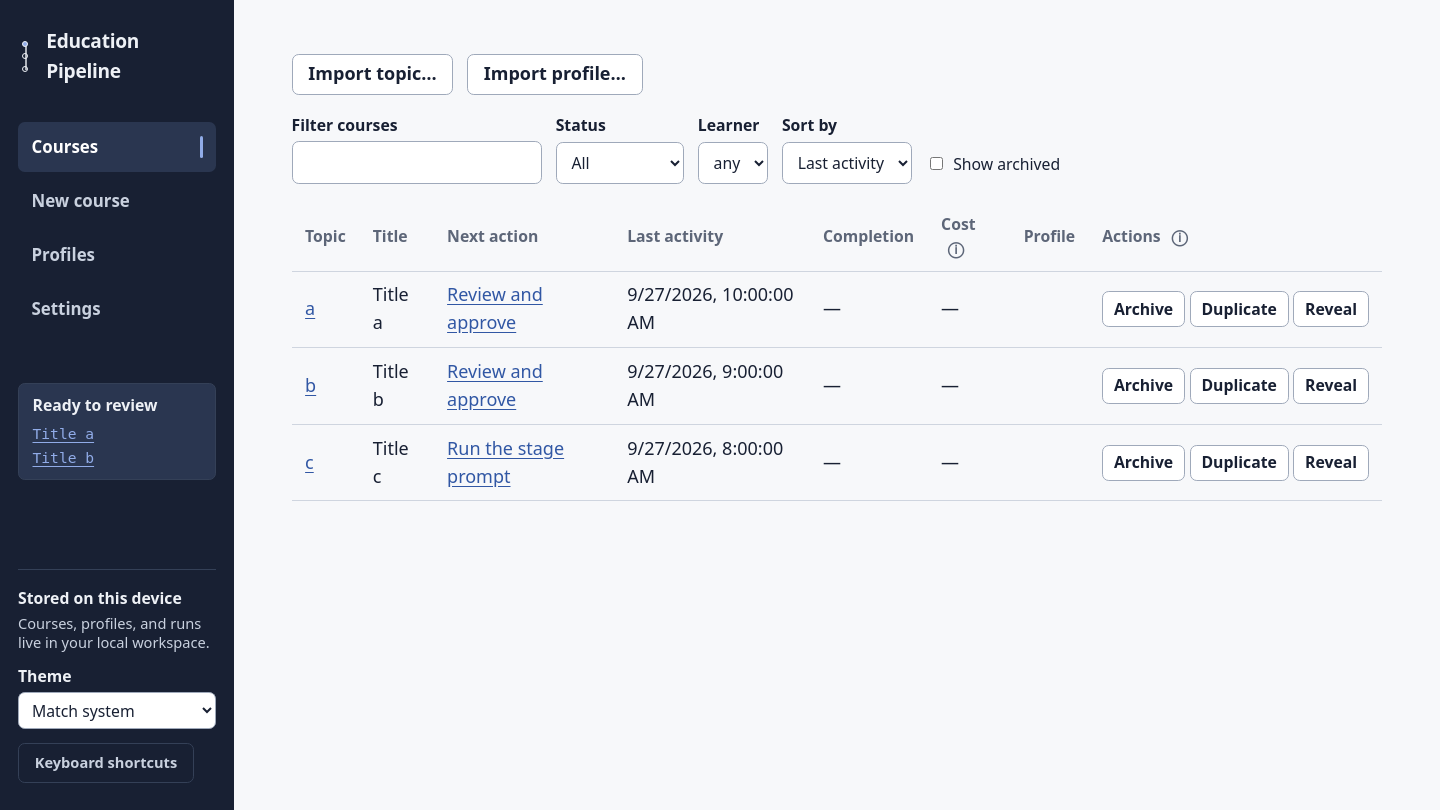
the shortcuts overlay › the rail's Keyboard shortcuts button opens the overlay even when keys are off
Type keys "?"
Type keys "/"
Click the button "Keyboard shortcuts". click: (106, 763)
box: [18,742,194,783]
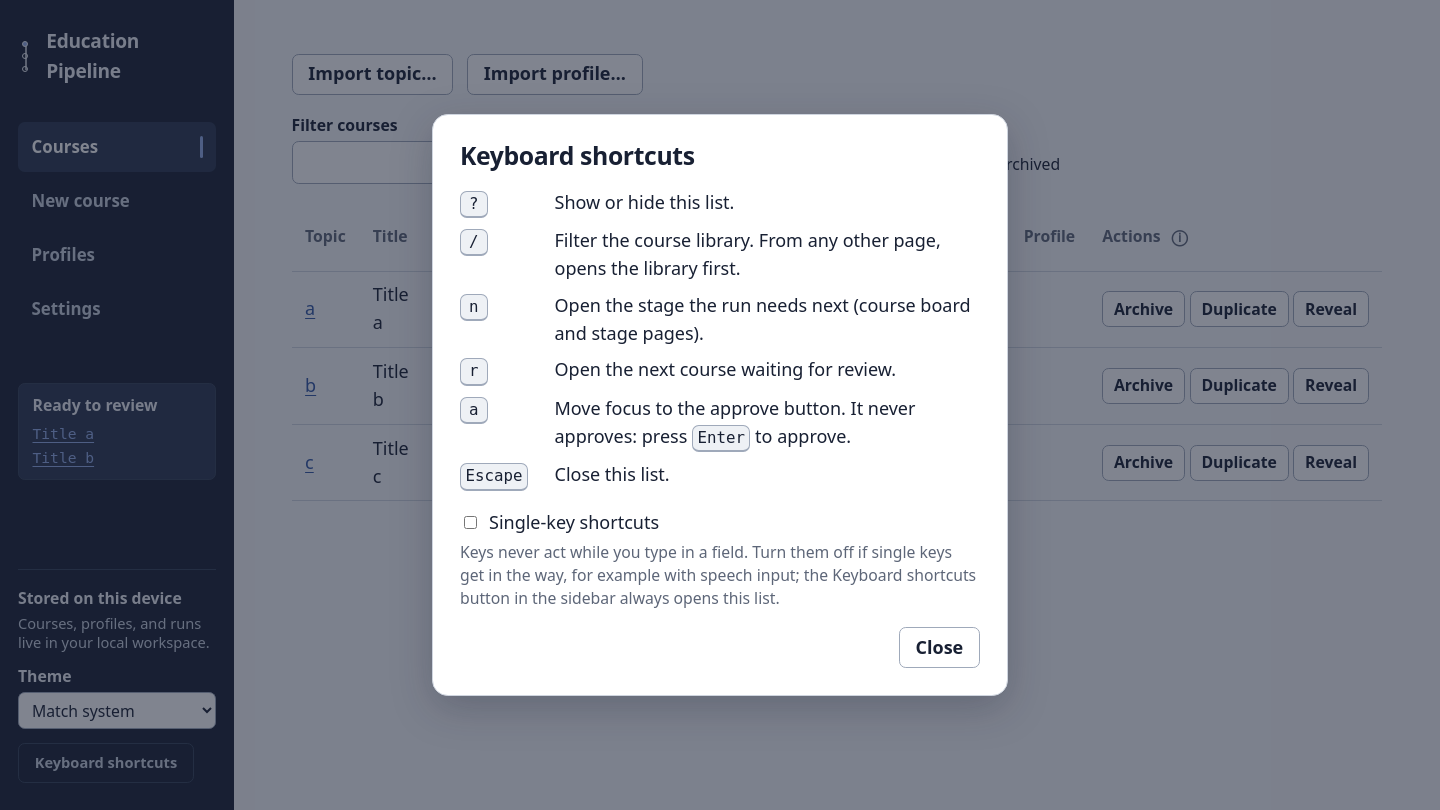
Result: the checkbox labelled "Single-key shortcuts" is not checked
Click the checkbox labelled "Single-key shortcuts". click: (470, 522)
box: [464,516,477,529]
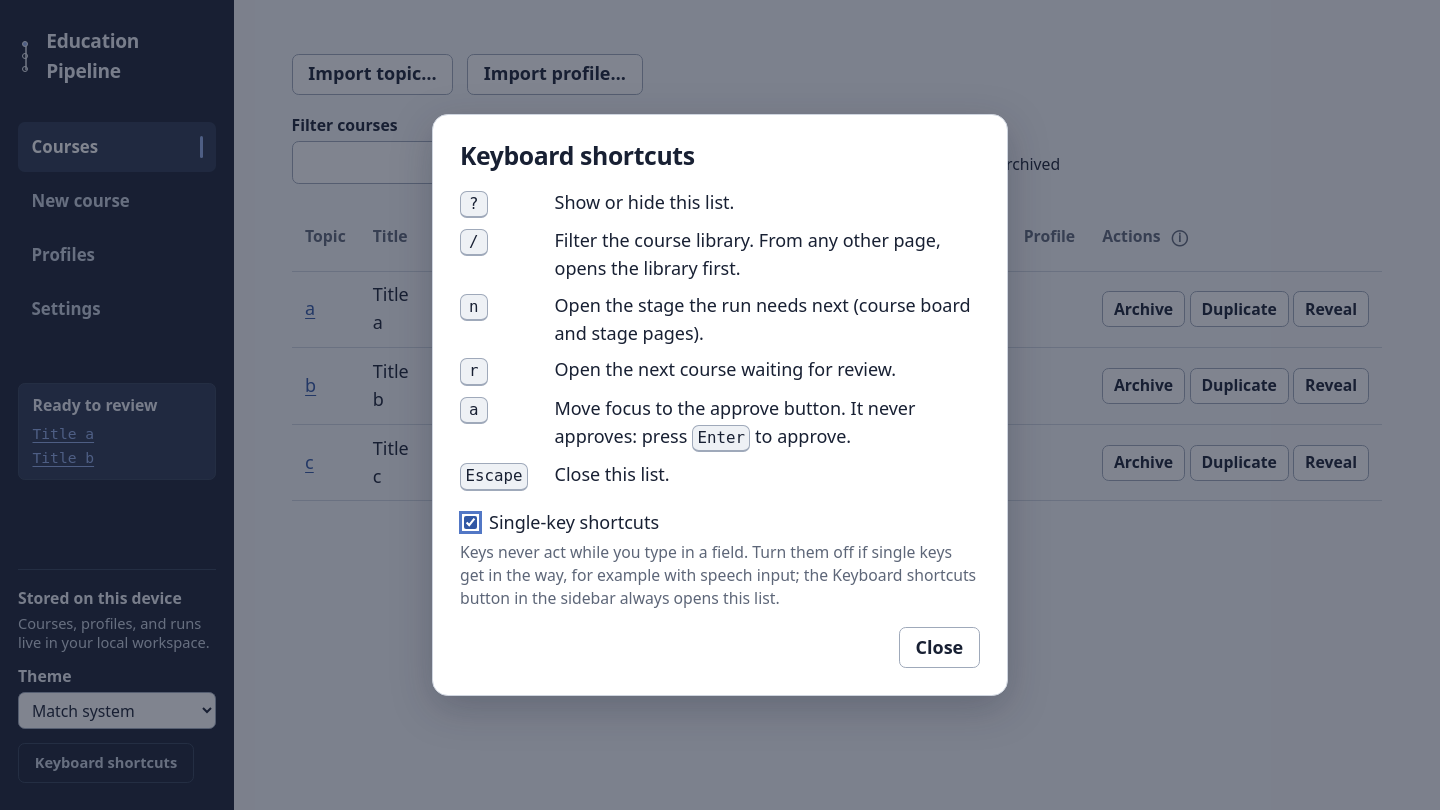
Result: the checkbox labelled "Single-key shortcuts" is checked at [464,516,477,529]
Press Escape
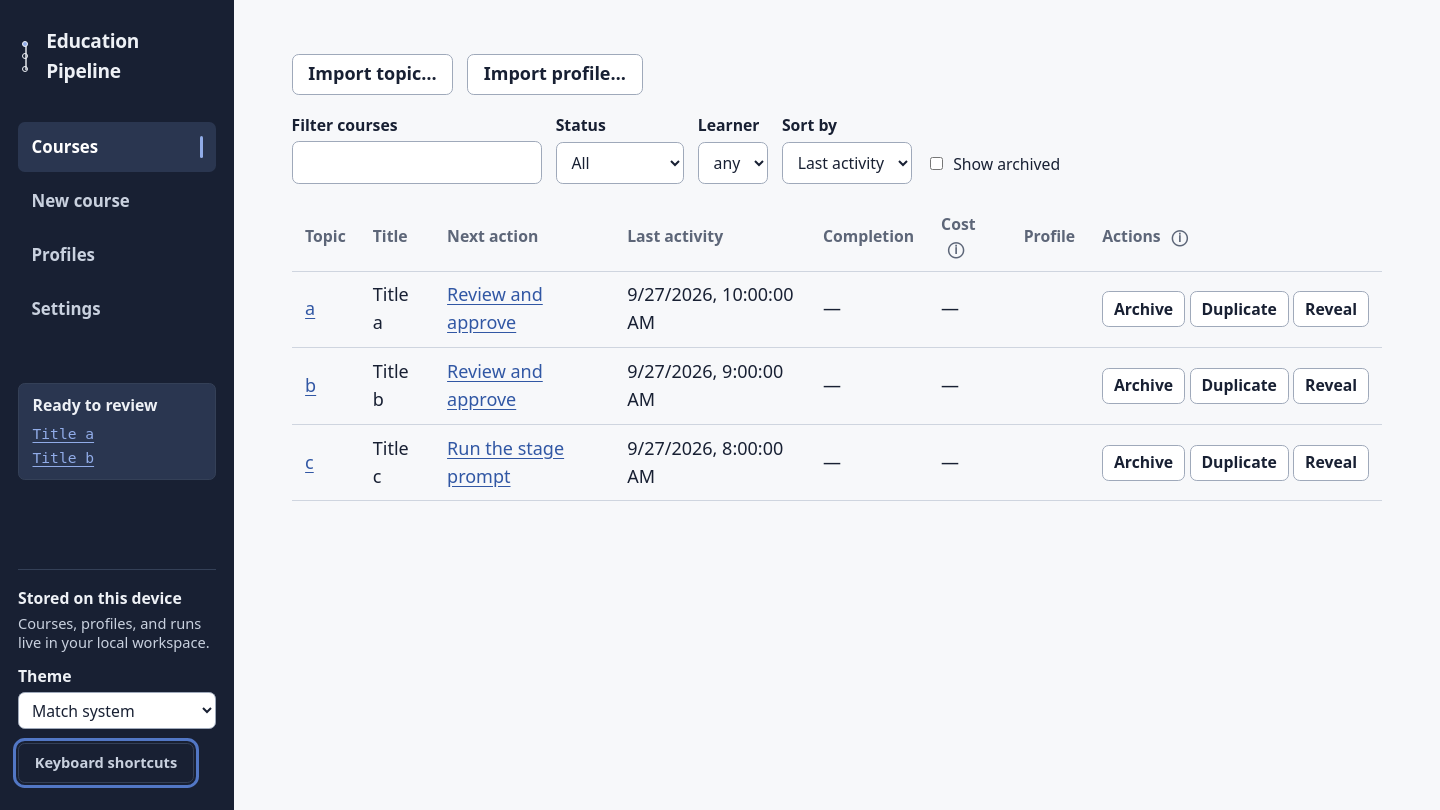
// Back on: ? works again.
Type keys "?"
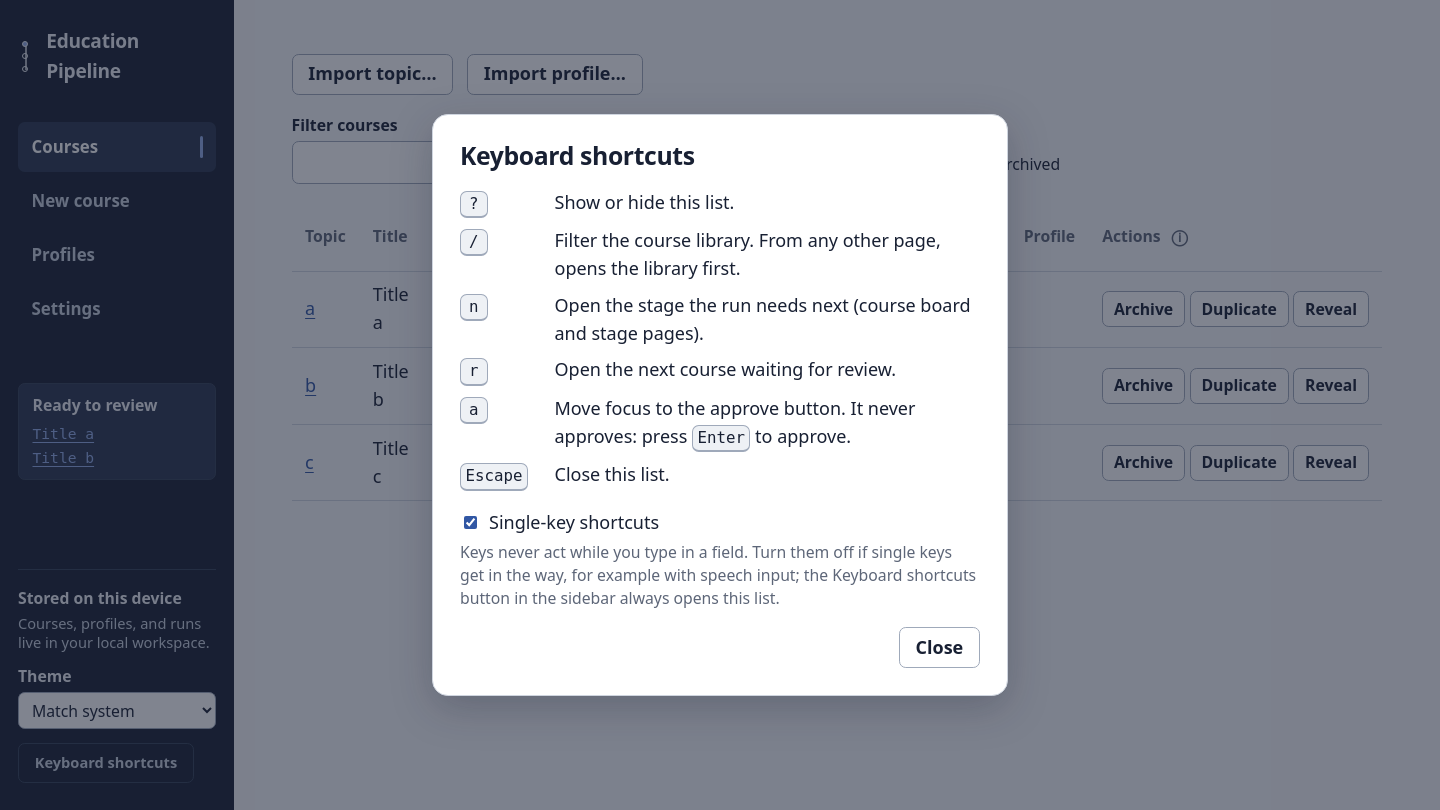
Result: the dialog "Keyboard shortcuts" is shown at [432,114,1008,696]
